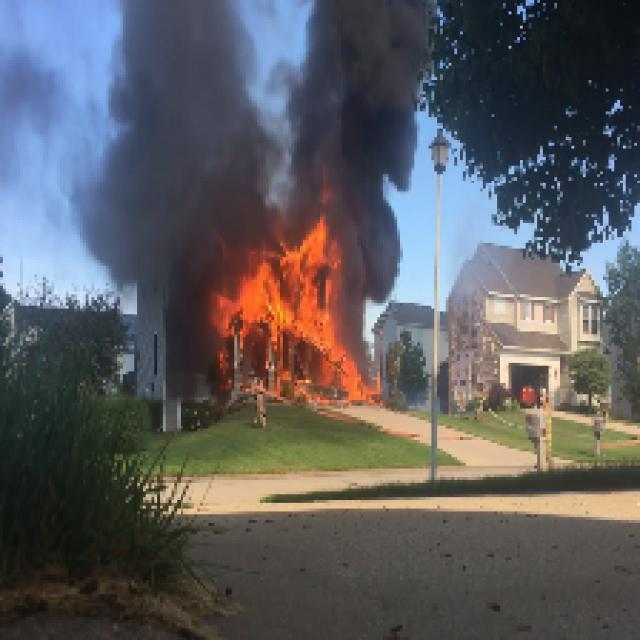Fire: (294, 217, 340, 369), (212, 248, 288, 334)
Smoke: (3, 3, 283, 223), (286, 3, 428, 166), (342, 171, 414, 340), (77, 223, 203, 286)
